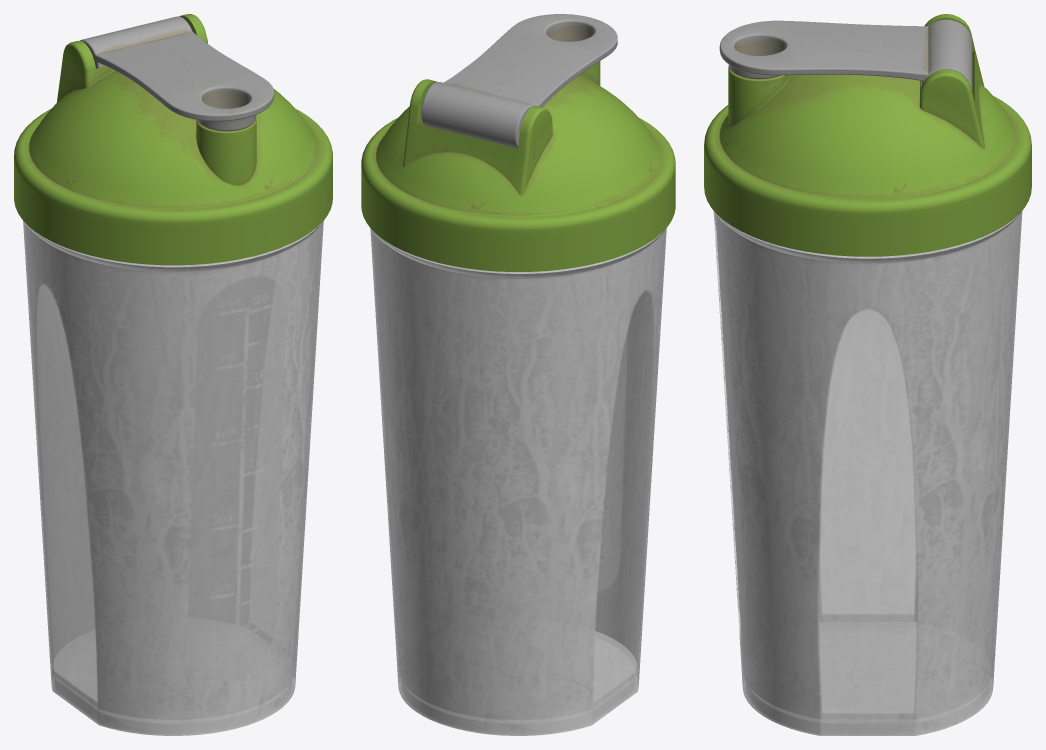
Rendered from shaker-bottle.glb.
3 views of the same model, side by side, from view 1: azimuth 30°, elevation 25°; view 2: azimuth 150°, elevation 25°; view 3: azimuth 270°, elevation 25° (orthographic). The views are drawn at different scales.
Visible parts, largest first — view 1: cup, cap, lid; view 2: cup, cap, lid; view 3: cup, cap, lid.
Part boxes in pixels (x1,y1,x2,y2): cup: [23, 219, 324, 735]; cap: [14, 14, 332, 265]; lid: [79, 16, 274, 131]; cup: [369, 226, 666, 735]; cap: [361, 61, 675, 271]; lid: [421, 14, 617, 148]; cup: [713, 210, 1022, 735]; cap: [704, 14, 1031, 256]; lid: [719, 19, 972, 90].
Size of the model in its own units: 183 by 397 by 183.
Materials: 1 (1 with a texture image).
